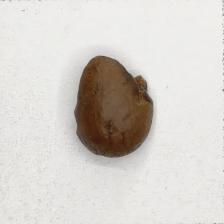NG: (117, 58, 154, 107)
